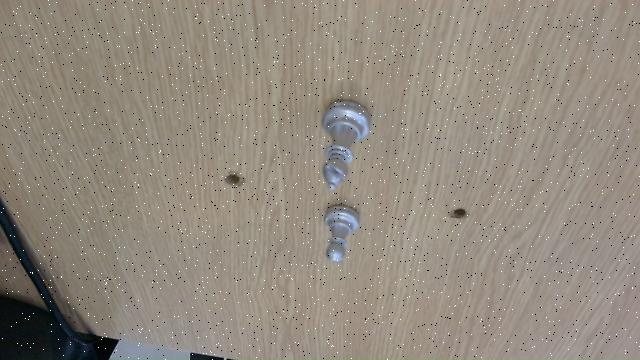white_bishop: (321, 97, 373, 192)
white_pawn: (323, 201, 362, 262)
